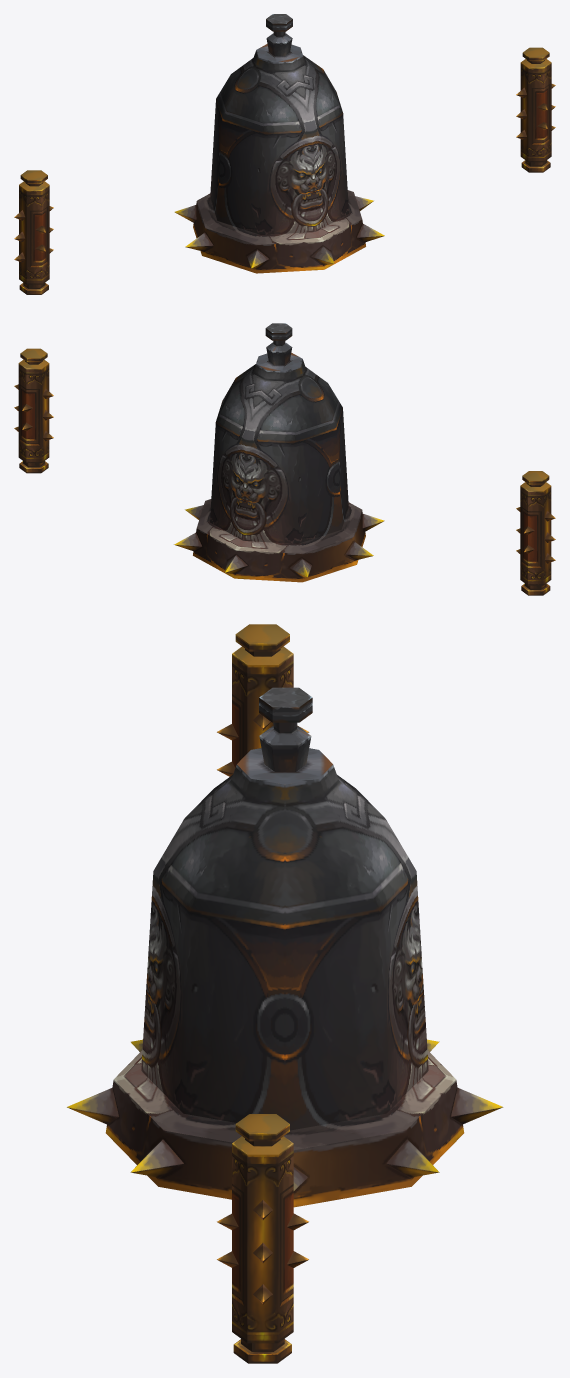
3 views of the same model, one above another, from view 1: azimuth 30°, elevation 25°; view 2: azimuth 150°, elevation 25°; view 3: azimuth 270°, elevation 25° (orthographic). The views are drawn at different scales.
Parts seen in each view (by area): view 1: fb_suoy_jz_16_b01, fb_suoy_jz_16_b03, fb_suoy_jz_16_b02; view 2: fb_suoy_jz_16_b01, fb_suoy_jz_16_b03, fb_suoy_jz_16_b02; view 3: fb_suoy_jz_16_b01, fb_suoy_jz_16_b03, fb_suoy_jz_16_b02.
Boxes of the visible parts, x1,y1,x2,y2 form: fb_suoy_jz_16_b01: (174,14,384,273); fb_suoy_jz_16_b03: (516,47,555,172); fb_suoy_jz_16_b02: (14,170,53,294); fb_suoy_jz_16_b01: (174,323,384,582); fb_suoy_jz_16_b03: (14,348,53,473); fb_suoy_jz_16_b02: (516,471,555,595); fb_suoy_jz_16_b01: (67,687,503,1207); fb_suoy_jz_16_b03: (217,1114,308,1363); fb_suoy_jz_16_b02: (217,624,309,776).
Size of the model in its own units: 2956 by 1136 by 1033.
